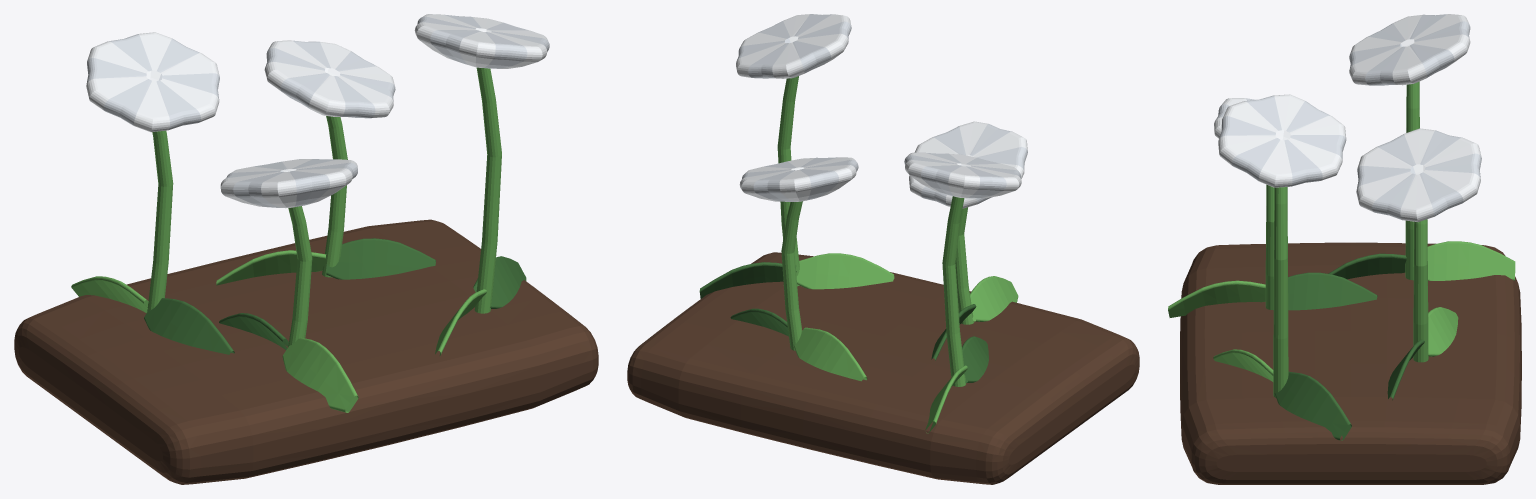
File: CropBloom.obj
3 views of the same model, side by side, from view 1: azimuth 30°, elevation 25°; view 2: azimuth 150°, elevation 25°; view 3: azimuth 270°, elevation 25° (orthographic). The views are drawn at different scales.
Size of the model in its own units: 3 by 2.42 by 2.28.
